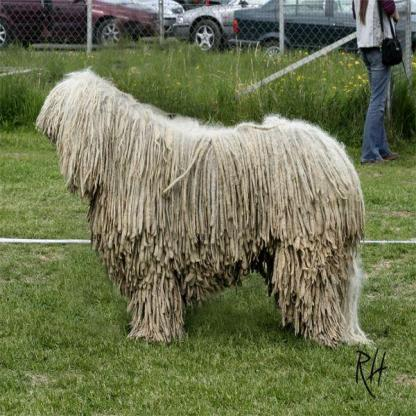komondor: (34, 65, 367, 346)
